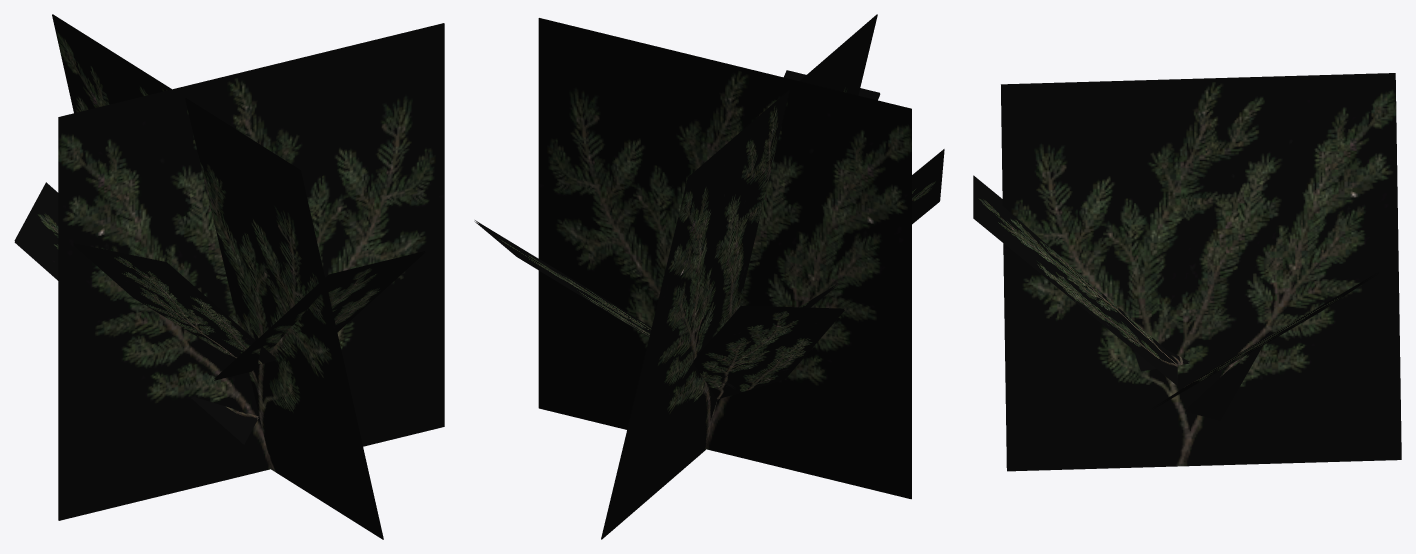
Rendered from mtns_shrb_evergreen_a2_l1.fbx.
The picture shows the model from 3 angles, left to right: view 1: azimuth 30°, elevation 25°; view 2: azimuth 150°, elevation 25°; view 3: azimuth 270°, elevation 25°; orthographic projection. The views are drawn at different scales.
Parts seen in each view (by area): view 1: mesh_node; view 2: mesh_node; view 3: mesh_node.
Boxes of the visible parts, <box> form: mesh_node: <box>14,14,444,539</box>; mesh_node: <box>474,14,944,539</box>; mesh_node: <box>973,73,1401,471</box>.
Size of the model in its own units: 3.11 by 3.06 by 3.31.
